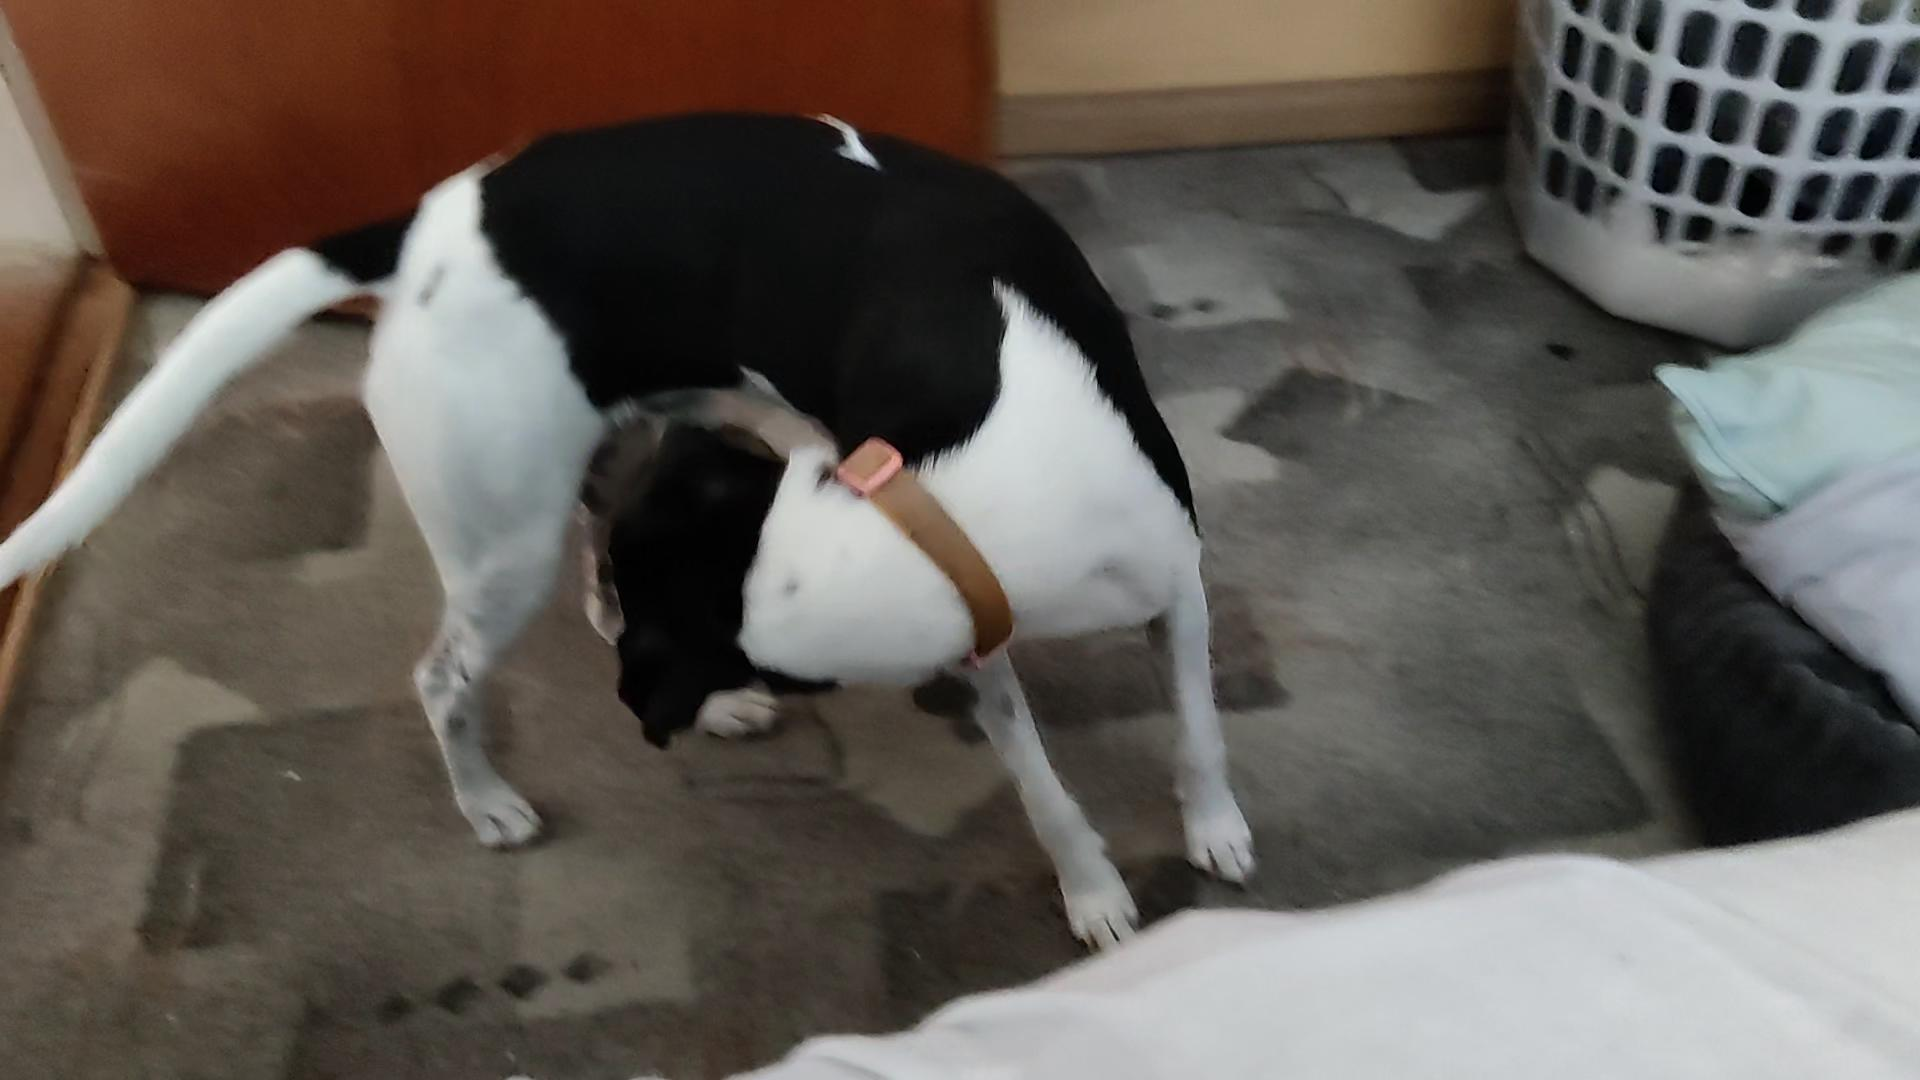Dog: (0, 69, 1320, 982)
